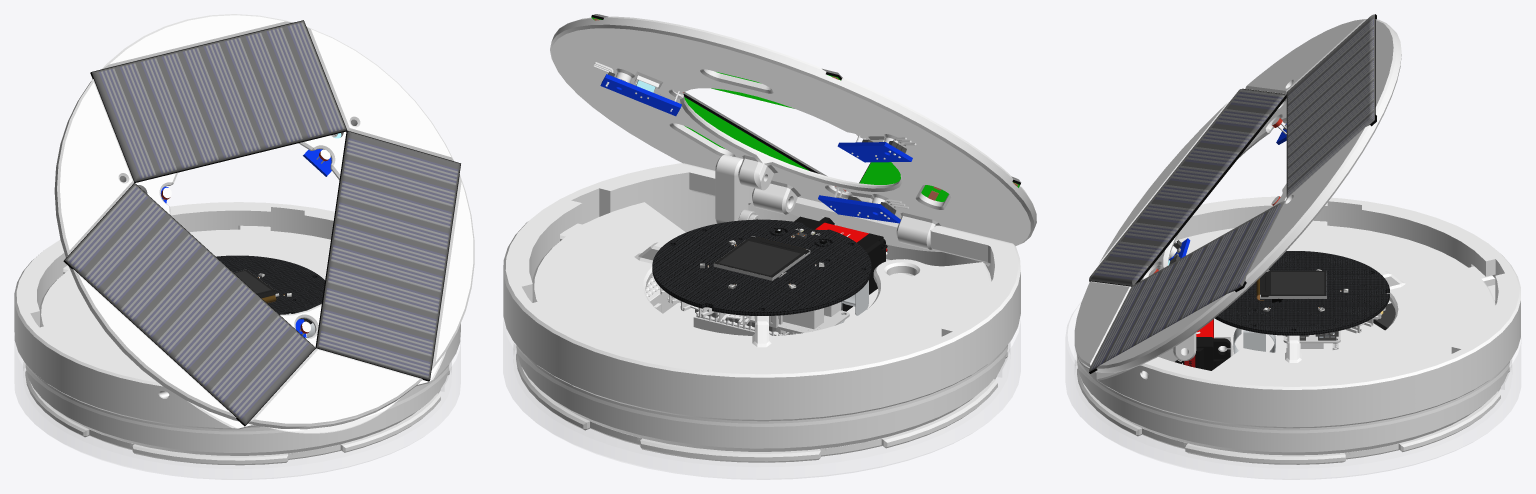
File: SolarSOS.glb
3 views of the same model, side by side, from view 1: azimuth 30°, elevation 25°; view 2: azimuth 150°, elevation 25°; view 3: azimuth 270°, elevation 25° (orthographic). The views are drawn at different scales.
Visible parts, largest first — view 1: Solar Panel-3, Link-1, Arduino MKR IoT Carrier-1, Base-1, Sensor Light Module-1; view 2: Link-1, Base-1, Arduino MKR IoT Carrier-1, Sensor Light Module-1, Solar Panel-3, Motor Stepper Driver (ULN2003)-1, Motor Servo (DS3218MG)-1; view 3: Link-1, Solar Panel-3, Base-1, Arduino MKR IoT Carrier-1, Motor Servo (DS3218MG)-1, Sensor Light Module-1, Motor Stepper Driver (ULN2003)-1.
Boxes of the visible parts, bbox=[...] form: Solar Panel-3: bbox=[63, 20, 460, 426]; Link-1: bbox=[14, 14, 474, 465]; Arduino MKR IoT Carrier-1: bbox=[68, 23, 457, 416]; Base-1: bbox=[15, 342, 460, 479]; Sensor Light Module-1: bbox=[160, 133, 341, 337]; Link-1: bbox=[503, 16, 1036, 462]; Base-1: bbox=[503, 318, 1020, 479]; Arduino MKR IoT Carrier-1: bbox=[646, 219, 871, 331]; Sensor Light Module-1: bbox=[593, 62, 916, 325]; Solar Panel-3: bbox=[591, 14, 1020, 201]; Motor Stepper Driver (ULN2003)-1: bbox=[693, 209, 849, 335]; Motor Servo (DS3218MG)-1: bbox=[794, 216, 887, 311]; Link-1: bbox=[1074, 19, 1520, 464]; Solar Panel-3: bbox=[1089, 14, 1376, 373]; Base-1: bbox=[1066, 303, 1520, 479]; Arduino MKR IoT Carrier-1: bbox=[1091, 20, 1389, 369]; Motor Servo (DS3218MG)-1: bbox=[1175, 311, 1383, 370]; Sensor Light Module-1: bbox=[1148, 117, 1385, 333]; Motor Stepper Driver (ULN2003)-1: bbox=[1158, 330, 1340, 361].
Bounding box in the file's own units: 0.2053 × 0.1631 × 0.2.
Materials: 138 (2 with a texture image).
